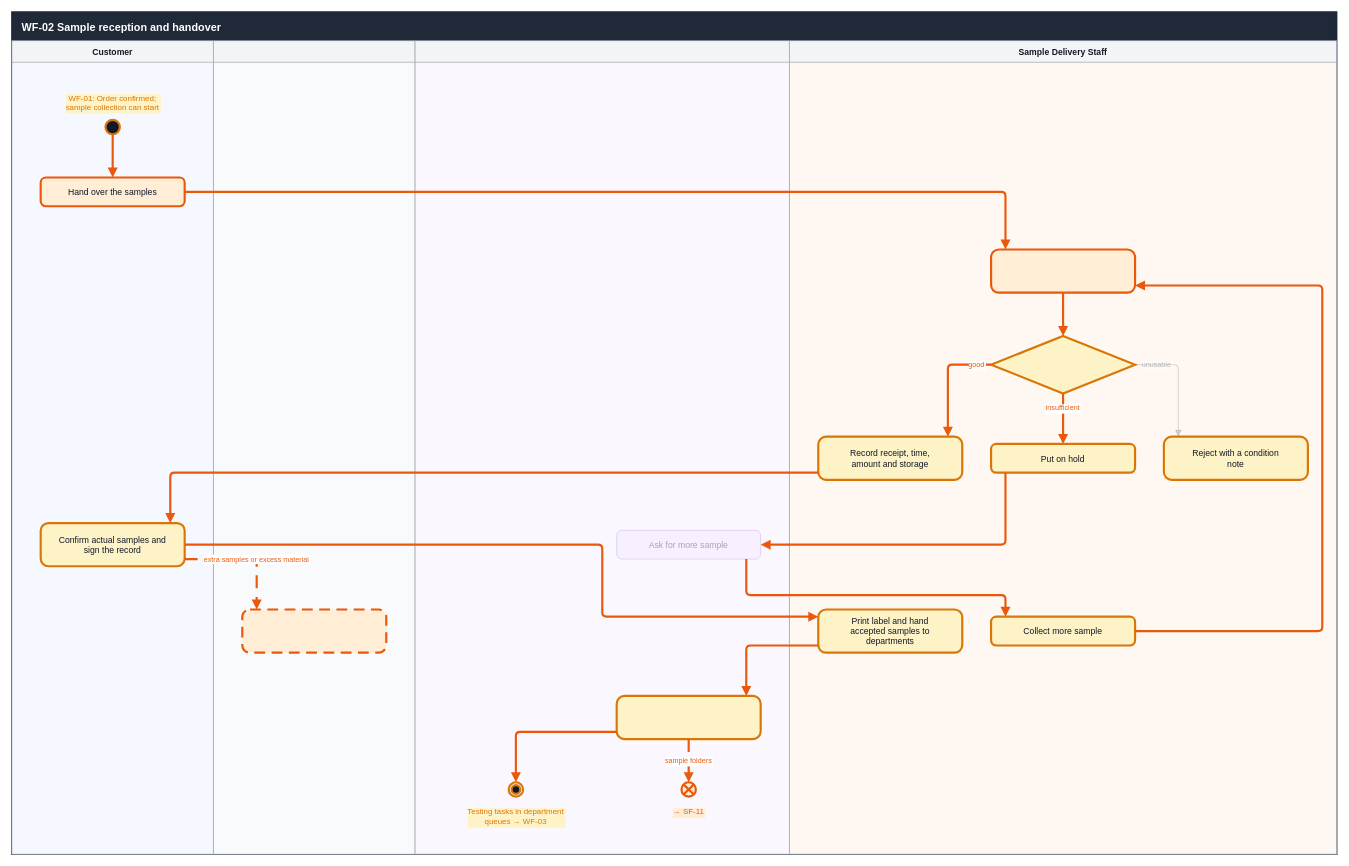
Image size: 1349x866. Some labels were removed from this diagram. The shapes that lost their labels are listed below. From the top down, each one's box as (x1, y1, x2, y2) in pixels, then its label:
(990, 248, 1136, 293): Adjust expected samples and record differences
(990, 334, 1136, 394): Condition?
(213, 40, 415, 854): System
(414, 40, 789, 854): Head of Department
(241, 608, 387, 653): Kept with the sample, no test added; returned on request
(615, 694, 761, 740): Scan the label to record department receipt
